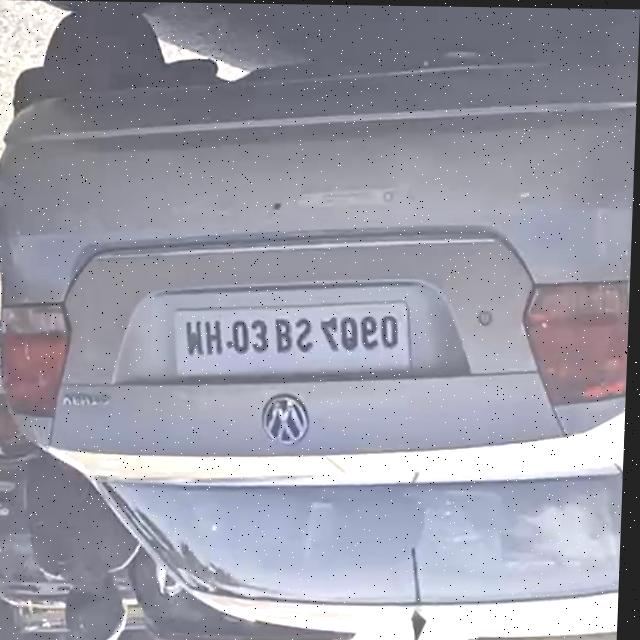plate: (172, 298, 416, 383)
